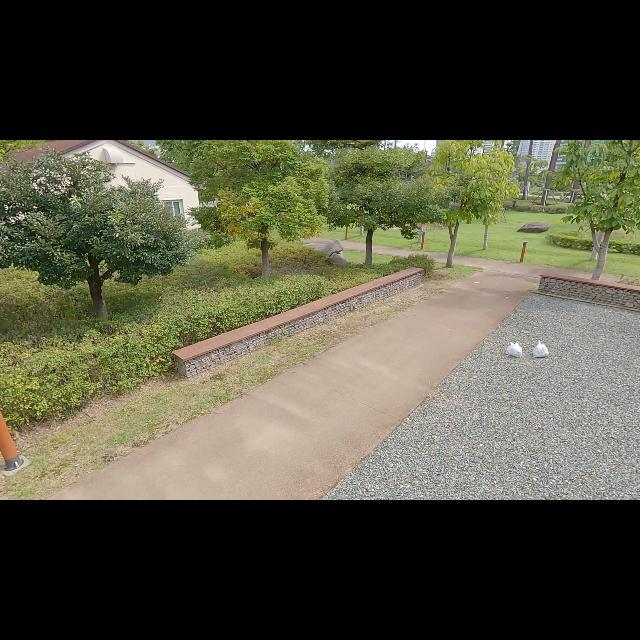trash: (531, 338, 551, 360), (506, 338, 524, 358)
